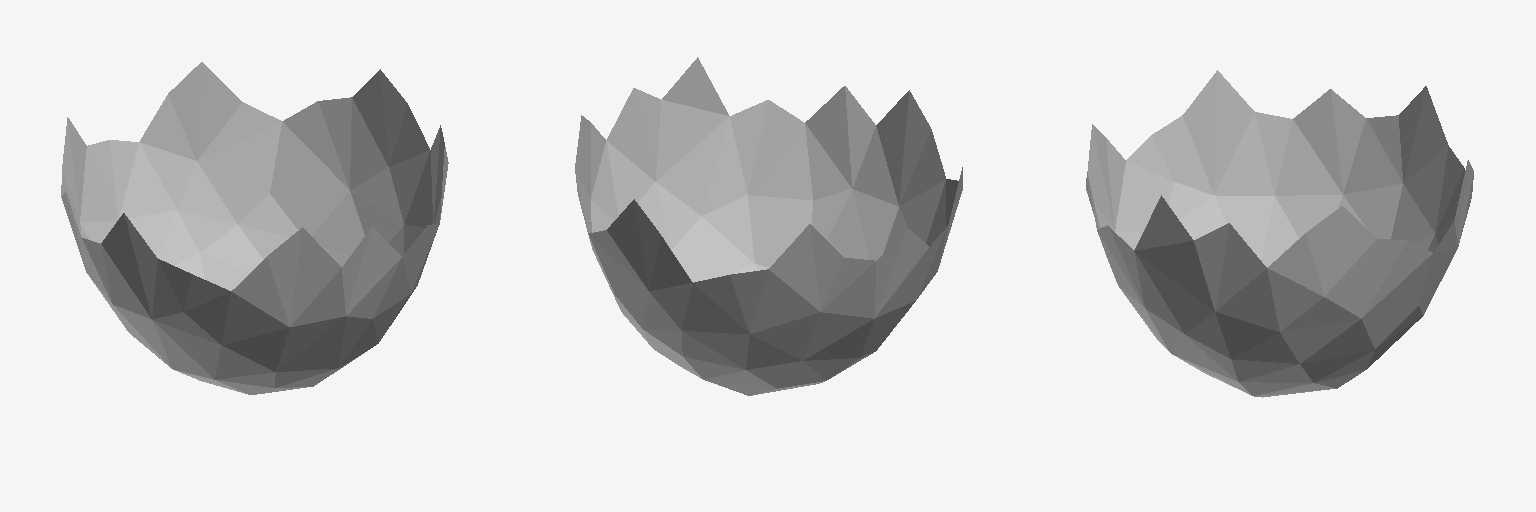
The model's file is eggshellbottom.obj.
The picture shows the model from 3 angles: view 1: azimuth 30°, elevation 25°; view 2: azimuth 150°, elevation 25°; view 3: azimuth 270°, elevation 25°; orthographic projection.
Visible parts, largest first — view 1: Sphere.002; view 2: Sphere.002; view 3: Sphere.002.
Part boxes in pixels (x1,y1,x2,y2): Sphere.002: (61,62,448,394); Sphere.002: (575,57,962,395); Sphere.002: (1086,70,1473,397).
Size of the model in its own units: 0.1754 by 0.1258 by 0.1755.